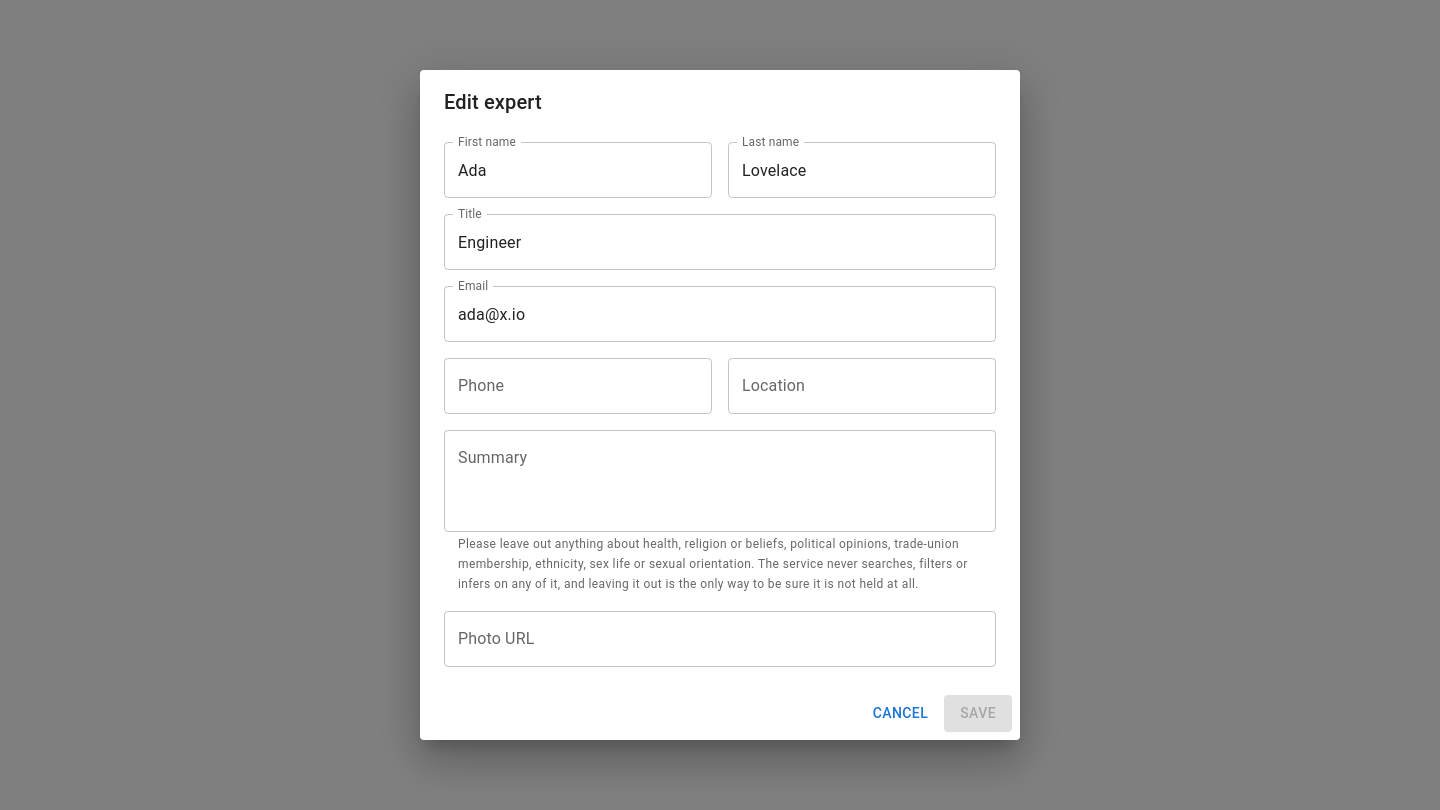
Test: saving the expert form › keeps the dialog open with the typing in it when the server refuses
The image size is (1440, 810).
Type " II" into the field labelled "Title" at (720, 242), box left=444, top=214, right=996, bottom=270
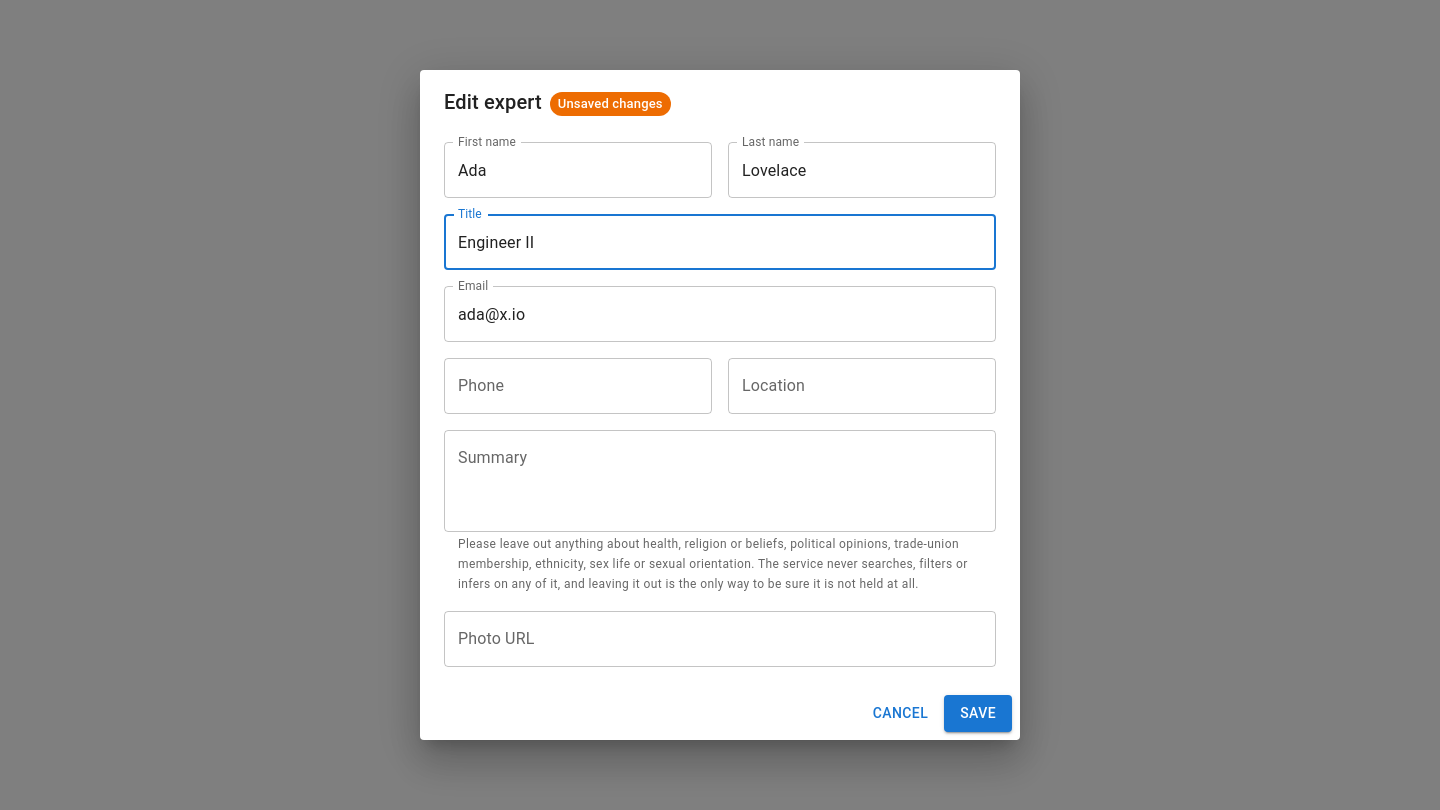
Click the button "Save" at (978, 713), box left=944, top=695, right=1012, bottom=732
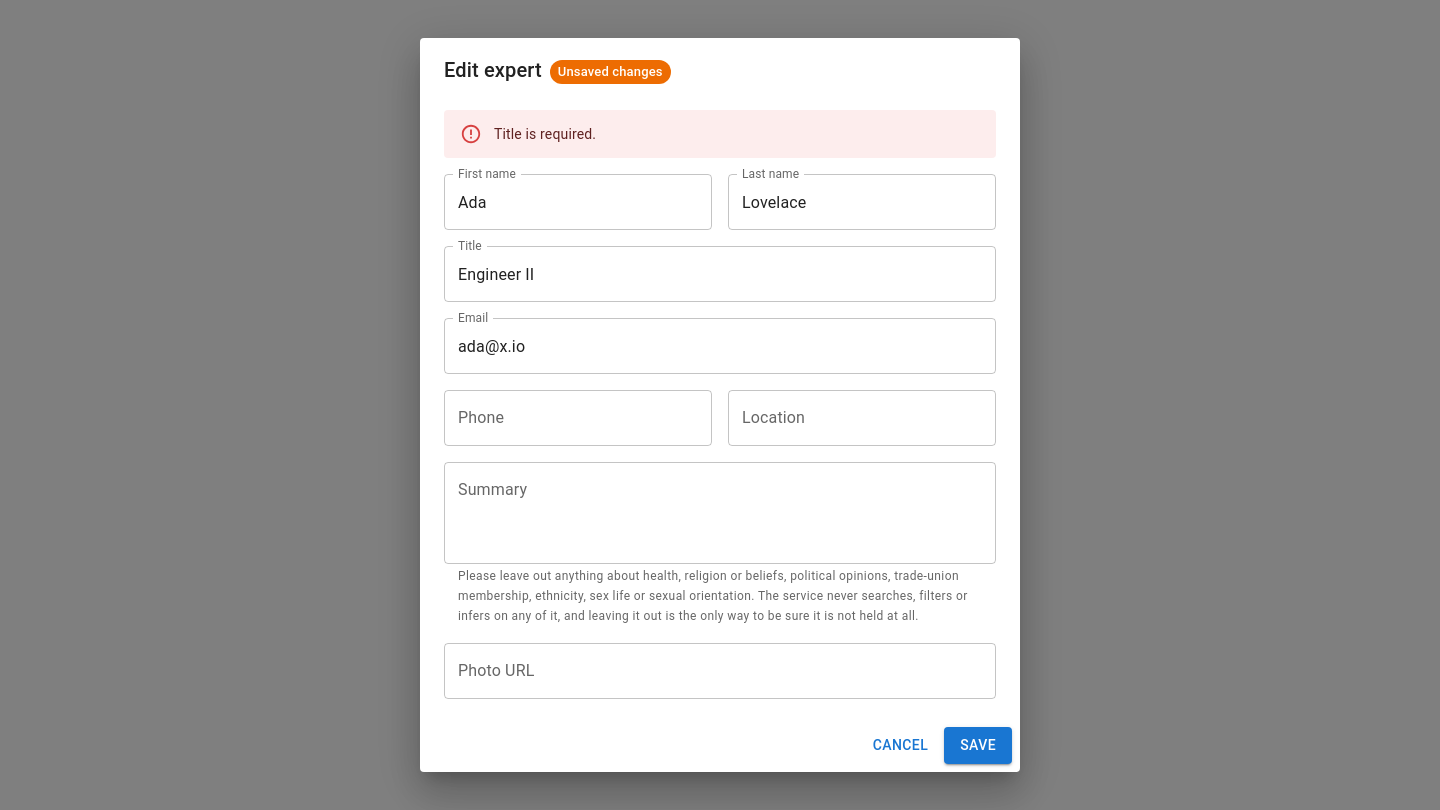
Expected: the field labelled "Title" holds "Engineer II", left=444, top=246, right=996, bottom=302
Expected: the text "Title is required." is shown, left=494, top=126, right=596, bottom=142
